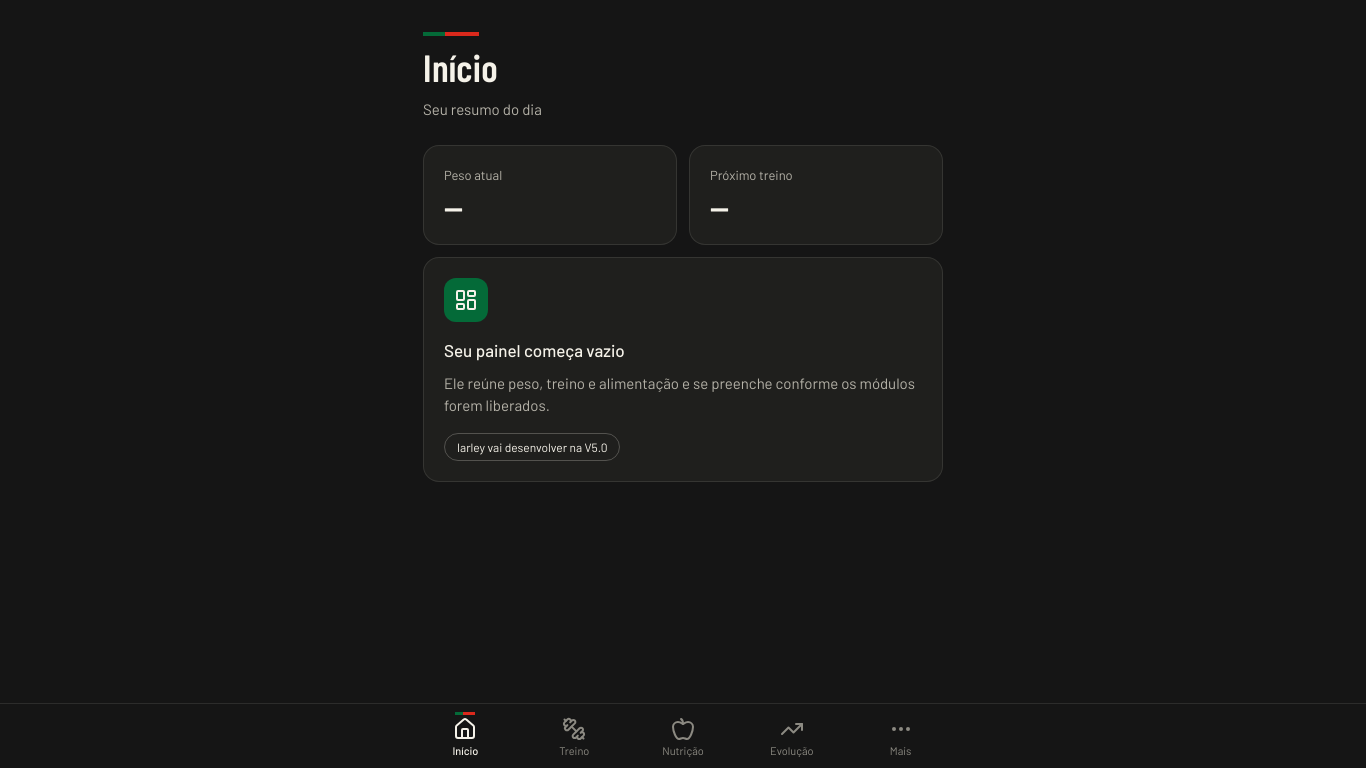
Test: navegação › troca de tela ao tocar na barra e marca o item ativo
Click the link "Treino": (574, 737) [559,717,589,757]
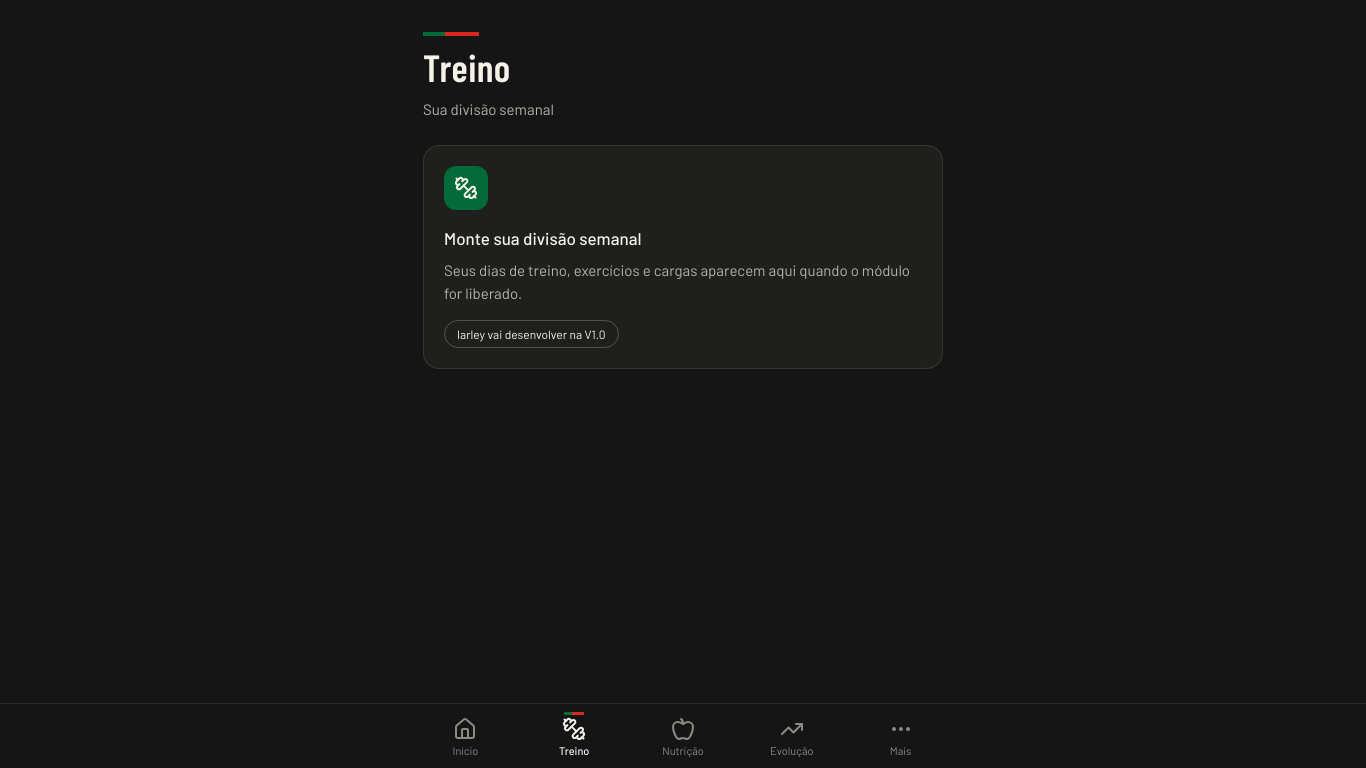
Result: the heading "Treino" is shown at [423,44,511,90]
